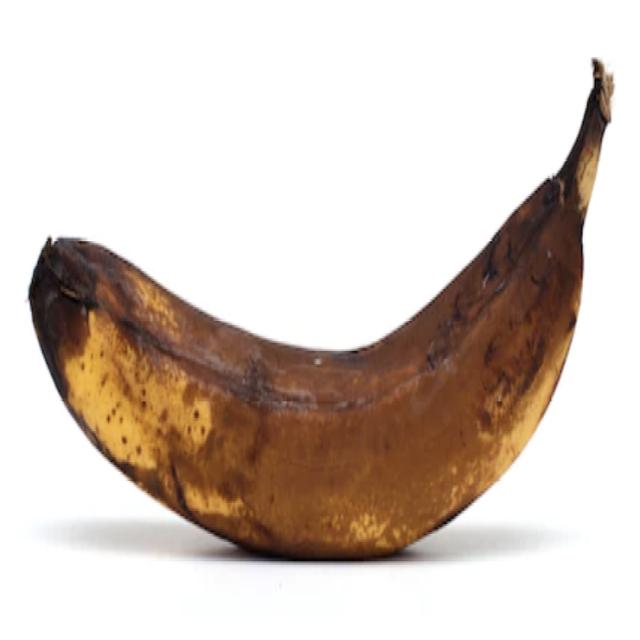rotten-banana: (27, 56, 615, 560)
